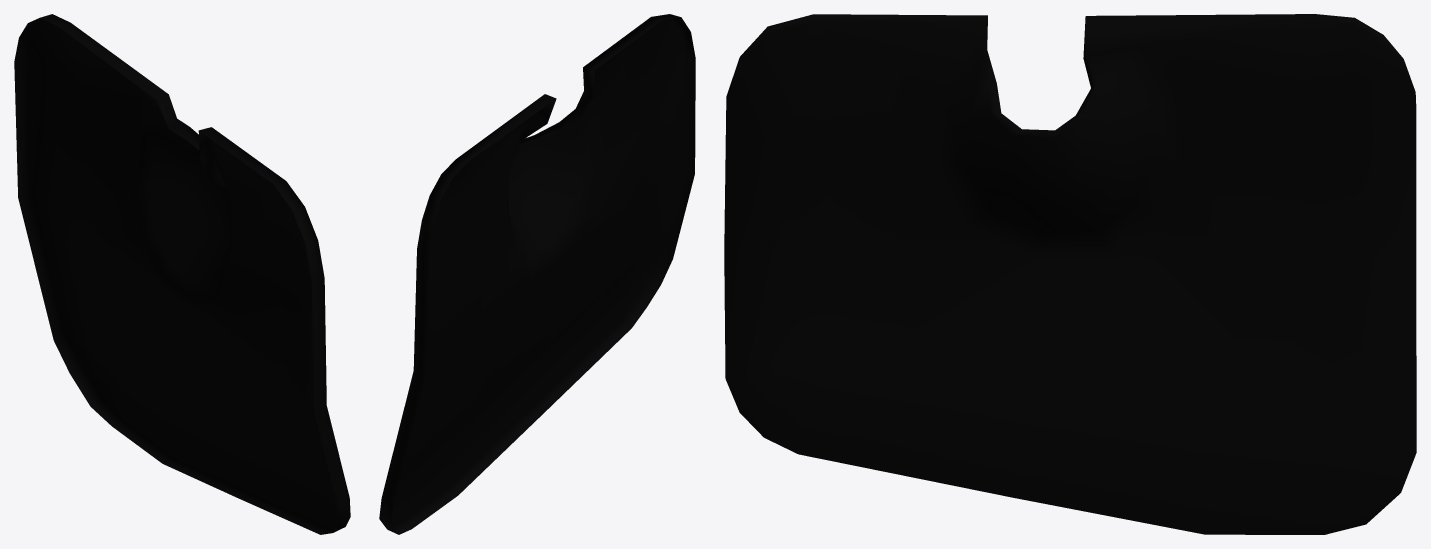
File: SM_Car_YiBiao5.FBX
3 views of the same model, side by side, from view 1: azimuth 30°, elevation 25°; view 2: azimuth 150°, elevation 25°; view 3: azimuth 270°, elevation 25° (orthographic). The views are drawn at different scales.
Visible parts, largest first — view 1: polySurface77232349; view 2: polySurface77232349; view 3: polySurface77232349.
Part boxes in pixels (x1,y1,x2,y2): polySurface77232349: (14,14,350,534); polySurface77232349: (379,14,695,534); polySurface77232349: (724,14,1416,534).
Bounding box in the file's own units: 2.96 × 16.52 × 21.34.
